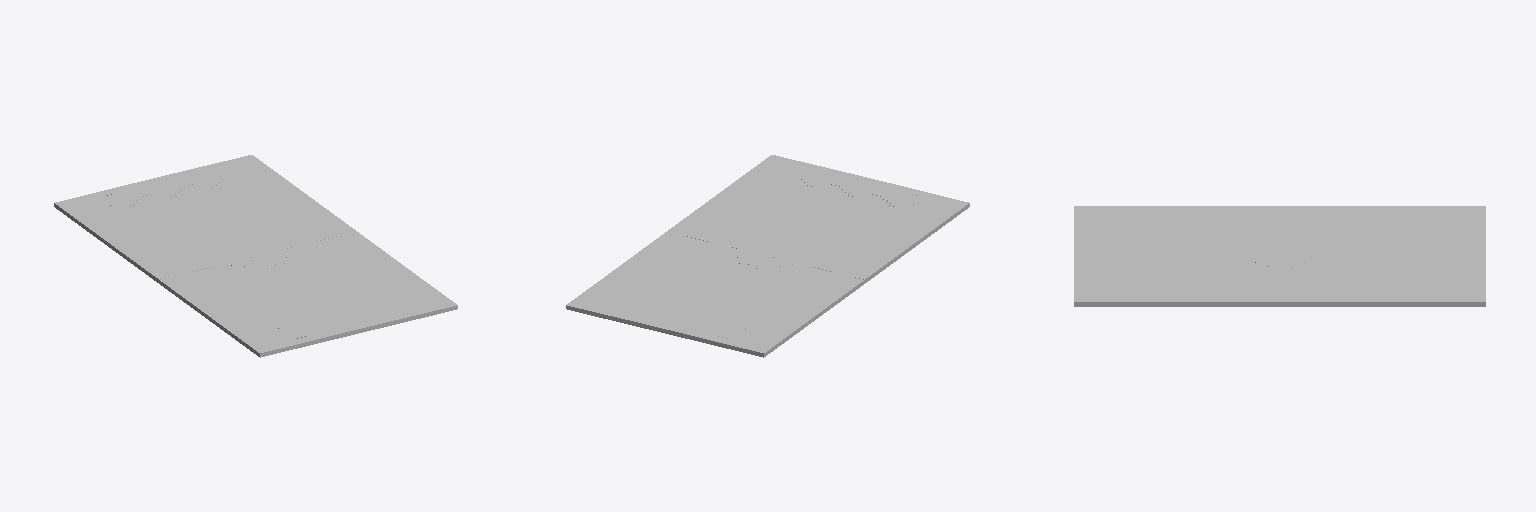
File: soccer1.obj
3 views of the same model, side by side, from view 1: azimuth 30°, elevation 25°; view 2: azimuth 150°, elevation 25°; view 3: azimuth 270°, elevation 25° (orthographic).
Visible parts, largest first — view 1: obj_0; view 2: obj_0; view 3: obj_0.
Part boxes in pixels (bbox=[...]): obj_0: bbox=[54, 155, 457, 357]; obj_0: bbox=[566, 155, 969, 357]; obj_0: bbox=[1074, 206, 1485, 306].
Bounding box in the file's own units: 50 × 1.05 × 90.